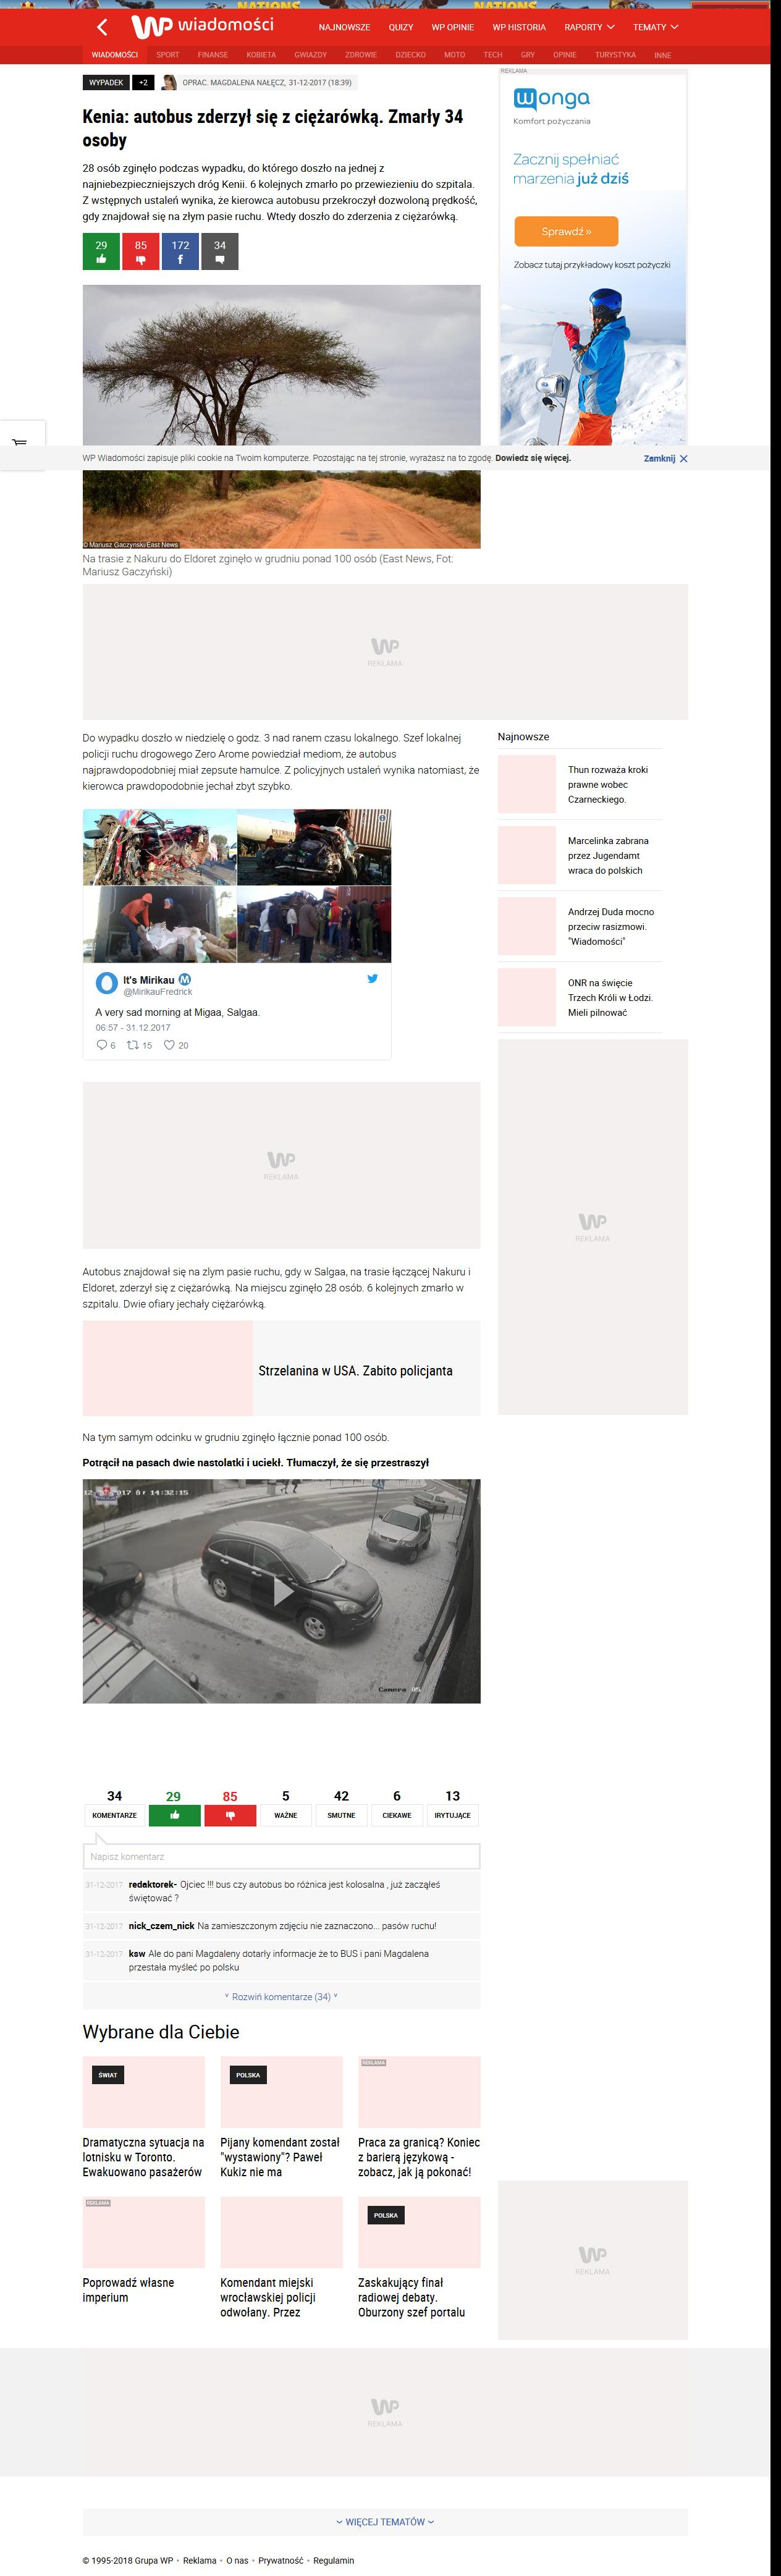title: (82, 108, 464, 149)
